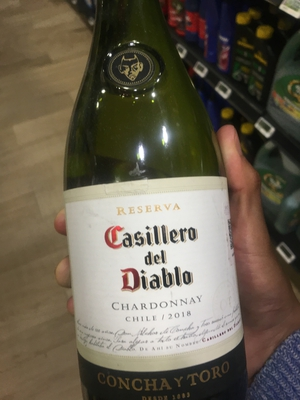casillero del diablo chardonnay: (51, 26, 258, 400)
